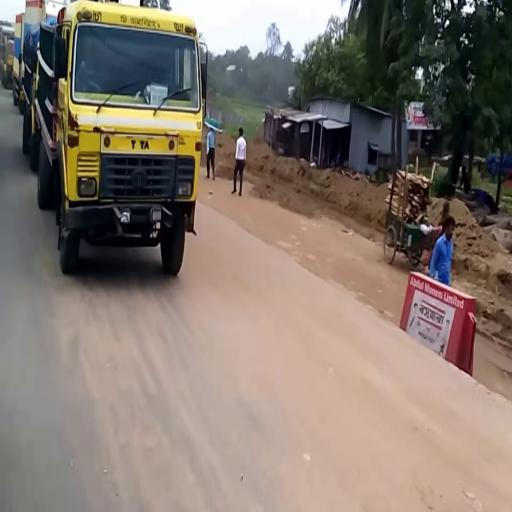truck: (33, 1, 210, 278), (23, 1, 64, 28), (13, 13, 23, 101)
